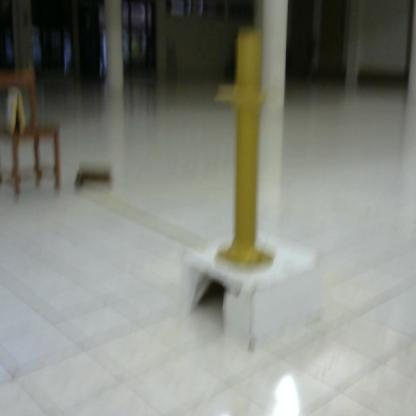pole: (213, 25, 280, 275)
